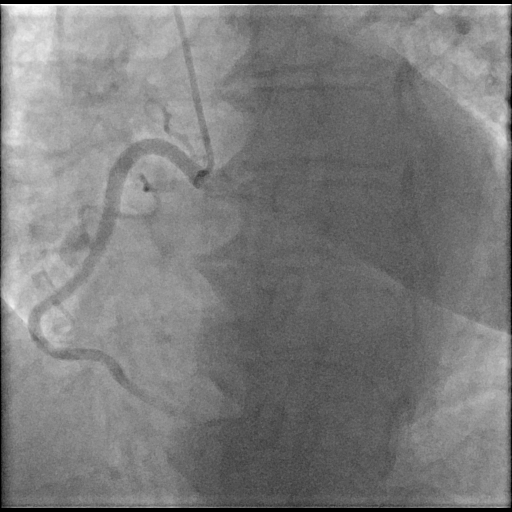RCA: (29, 141, 206, 424)
catherter: (172, 5, 214, 177)
